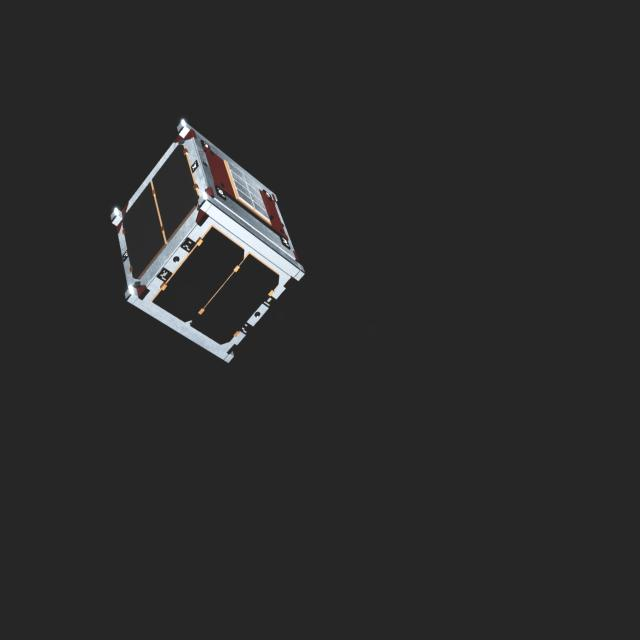satellite: (95, 111, 307, 373)
